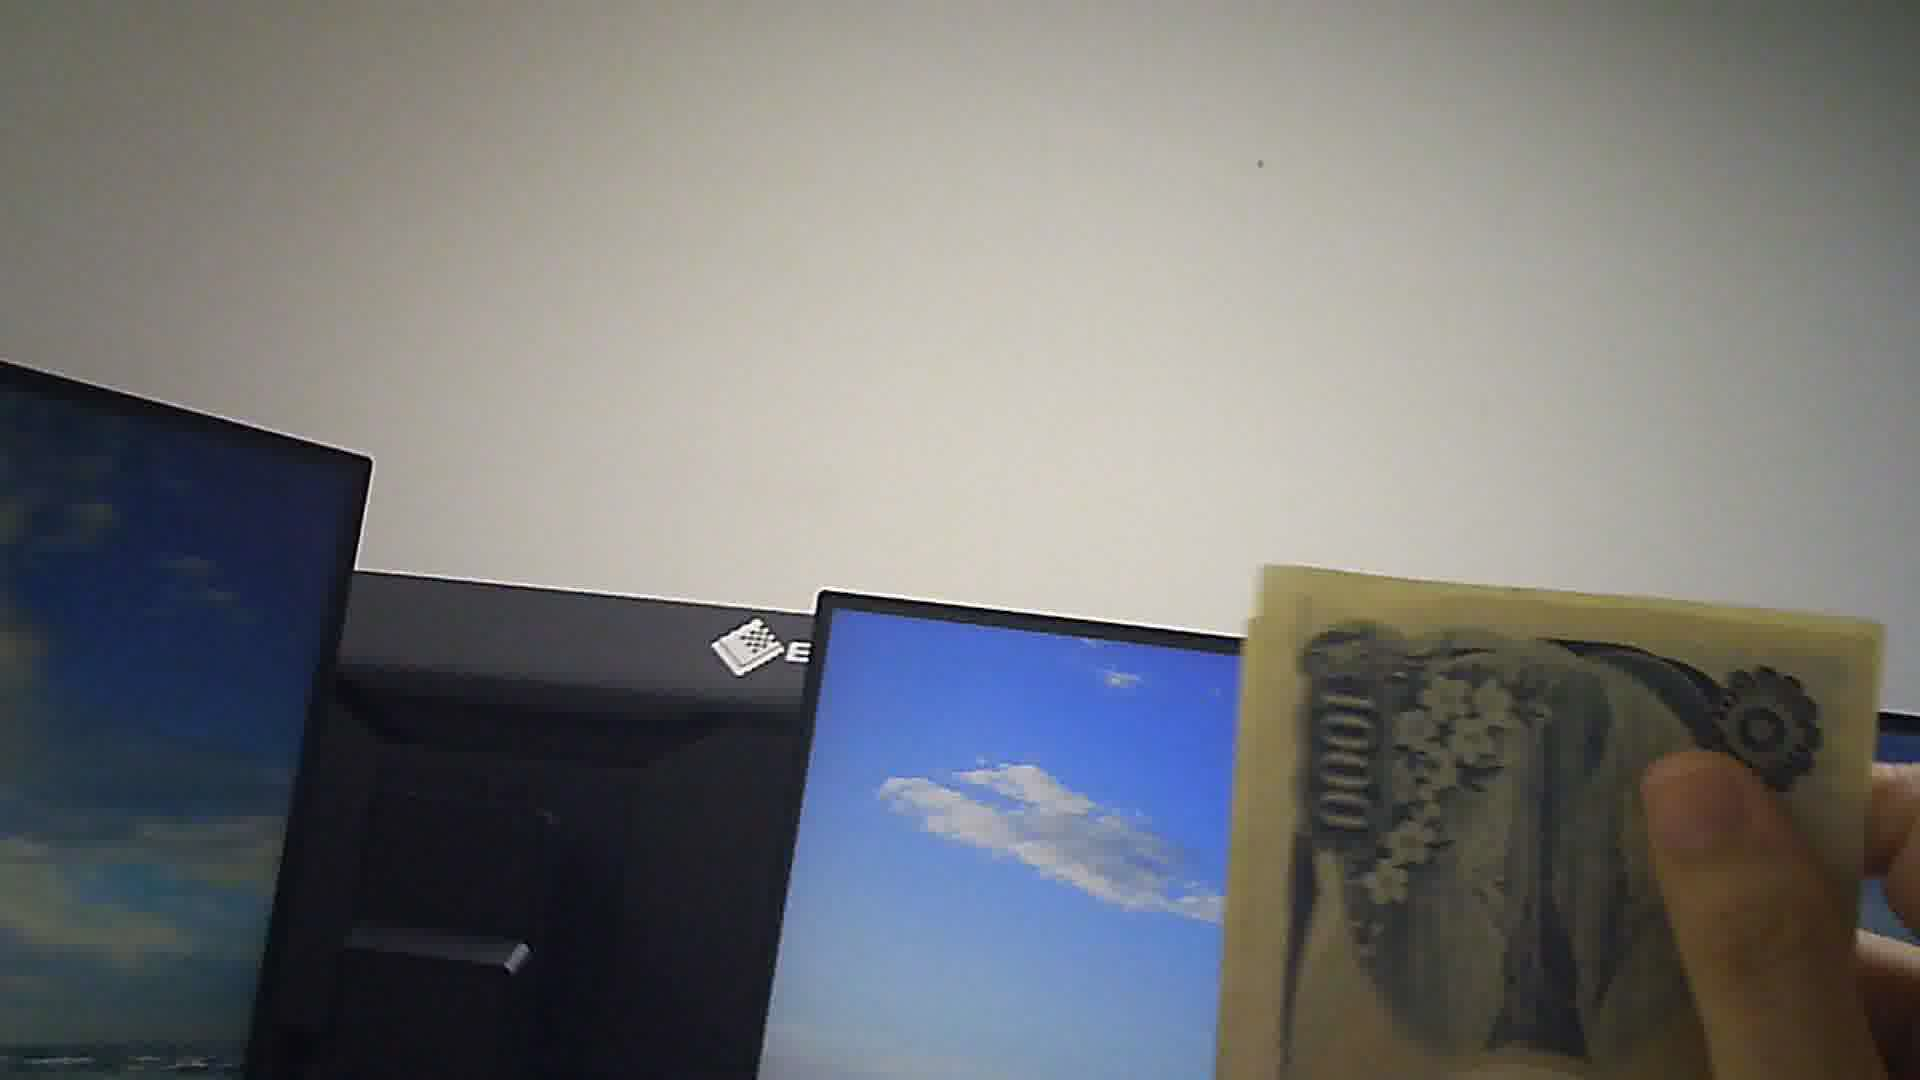1,000 Yen: (1244, 560, 1825, 1060)
